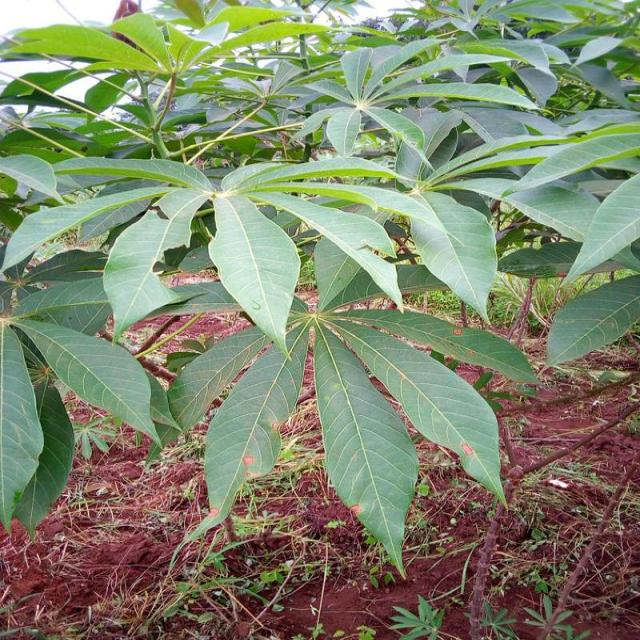cassava leaf: (1, 0, 638, 575), (311, 320, 419, 579), (207, 192, 301, 361)
